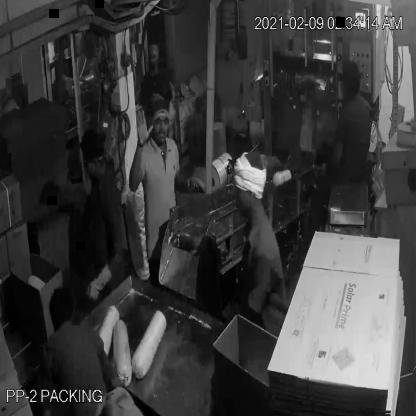glove: (61, 176, 103, 228), (79, 265, 117, 305)
no_glove: (120, 98, 153, 200), (166, 156, 209, 204)
